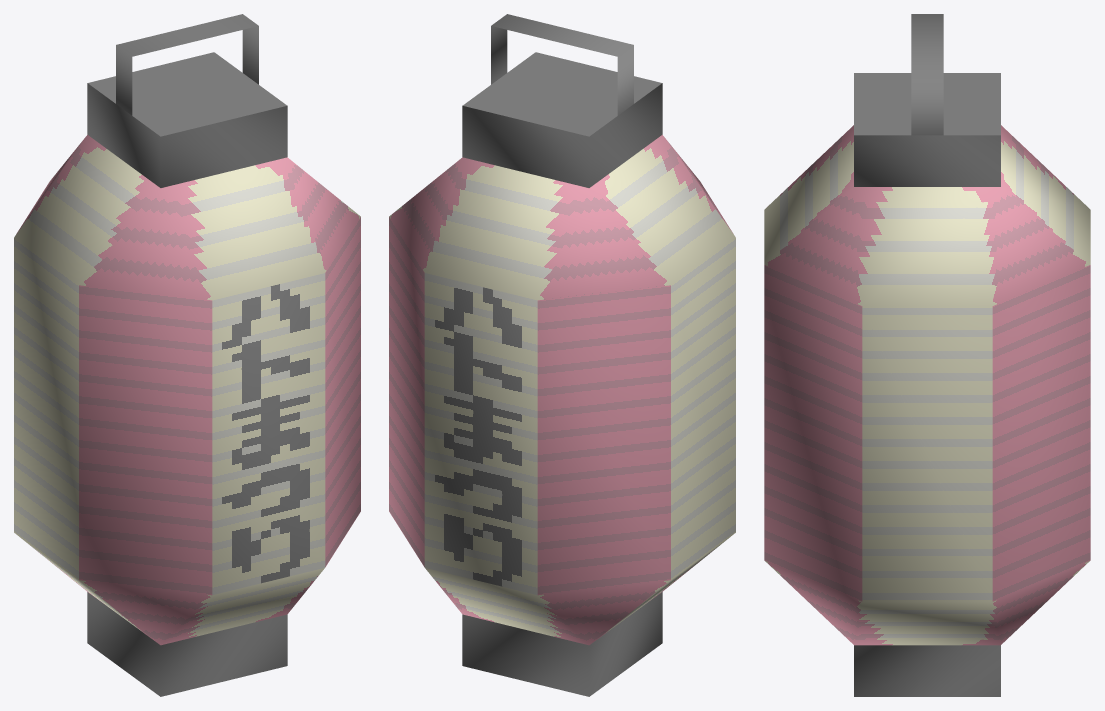
Rendered from 0150_Paper_Lantern.glb.
3 views of the same model, side by side, from view 1: azimuth 30°, elevation 25°; view 2: azimuth 150°, elevation 25°; view 3: azimuth 270°, elevation 25° (orthographic).
Parts seen in each view (by area): view 1: part_0; view 2: part_0; view 3: part_0.
Part boxes in pixels (bbox=[...]): part_0: bbox=[14, 14, 360, 696]; part_0: bbox=[389, 14, 735, 696]; part_0: bbox=[764, 14, 1090, 696].
Bounding box in the file's own units: 0.2 × 0.42 × 0.2.
Materials: 1 (1 with a texture image).
